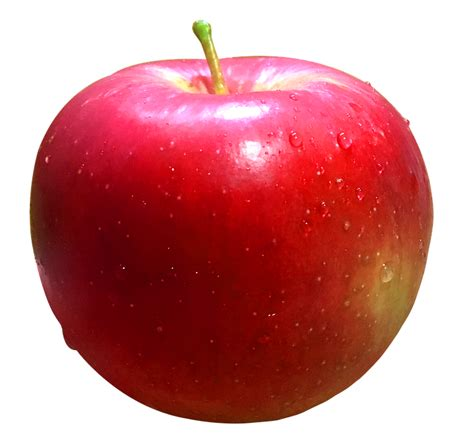apple: (27, 14, 438, 426)
